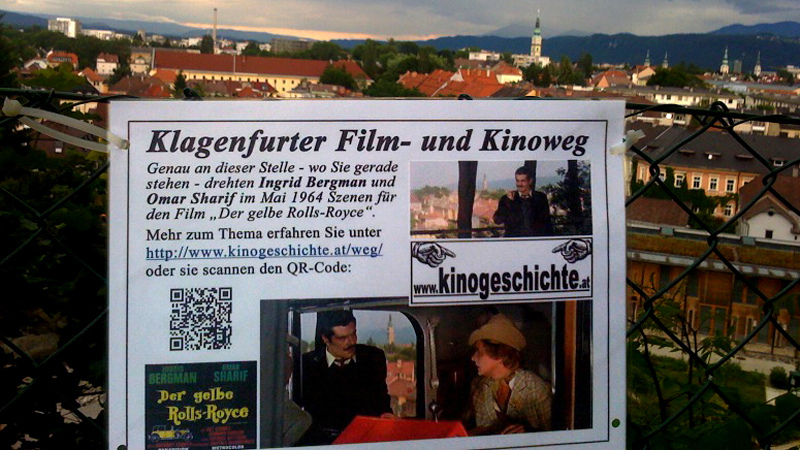QR-CODE: (170, 287, 231, 350)
